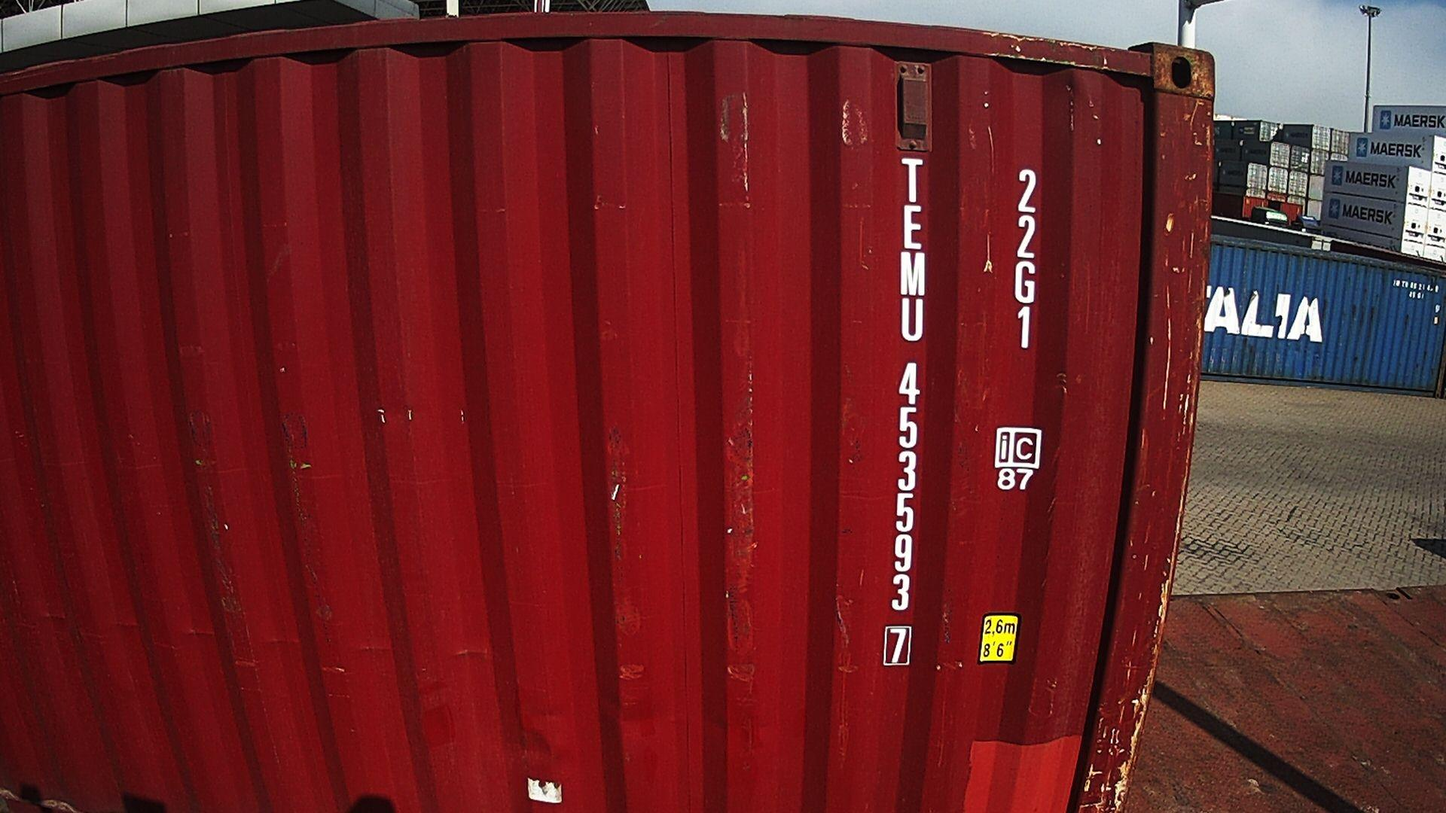container-numbers: (880, 151, 929, 671), (1005, 166, 1044, 358)
